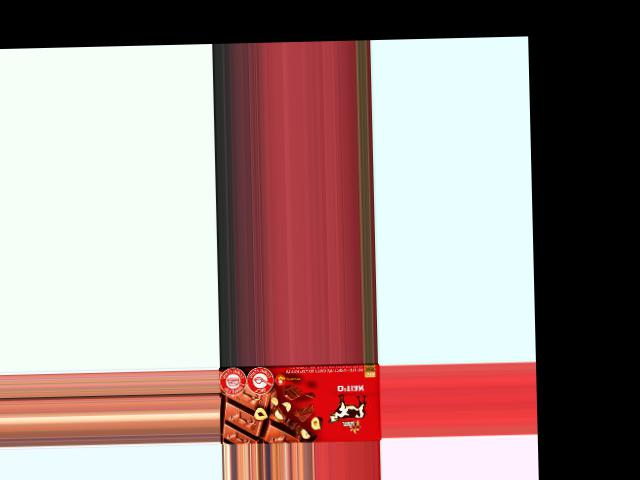chocolate: (219, 365, 381, 443)
